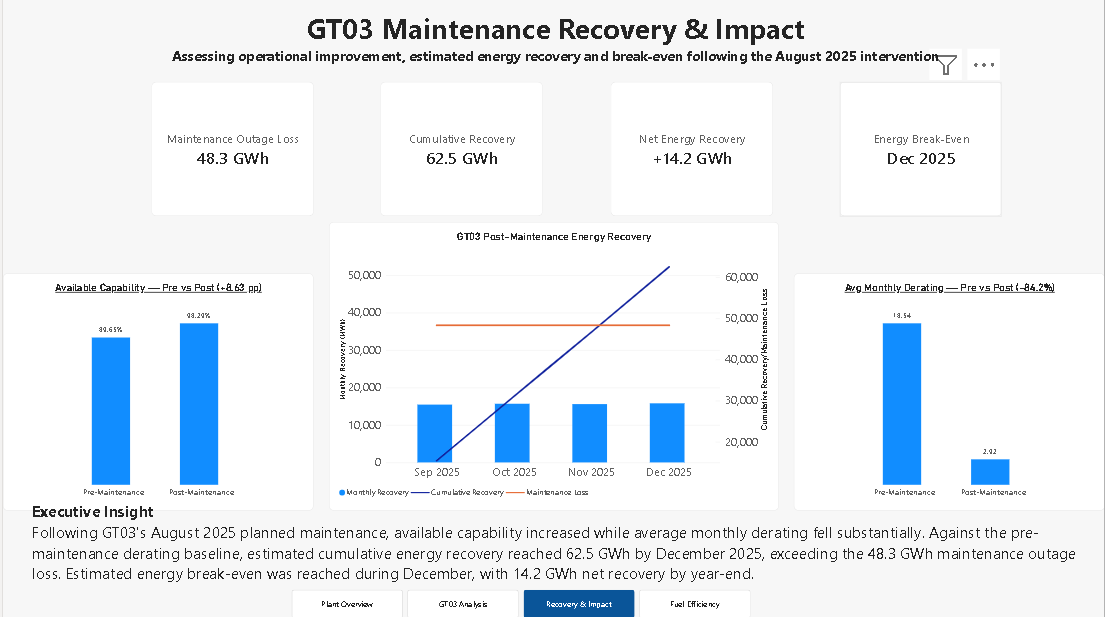

What the dashboard file says about the page in this screenshot:
{"tool":"powerbi","page":{"name":"Recovery & Impact","canvas":[1920,1080],"ordinal":2},"visuals":[{"type":"lineClusteredColumnComboChart","title":"GT03 Post-Maintenance Energy Recovery","fields":{"Category":["DimDate.Month Year"],"Y":["FactGenerationTable.GT03 Monthly Avoided Derating MWh"],"Y2":["FactGenerationTable.GT03 Cumulative Avoided Derating MWh","FactGenerationTable.GT03 Maintenance Loss Threshold MWh"]},"box":[569.1,387.8,783.8,503.2],"z":0},{"type":"cardVisual","fields":{"Data":["FactGenerationTable.Maintenance Outage Loss GWh"]},"box":[258.9,142.1,283.1,234.7],"z":1000},{"type":"cardVisual","fields":{"Data":["FactGenerationTable.Cumulative Recovery GWh"]},"box":[658,142.1,283.1,234.7],"z":2000},{"type":"cardVisual","fields":{"Data":["FactGenerationTable.Net Energy Recovery GWh"]},"box":[1059.6,142.1,283.1,234.7],"z":3000},{"type":"cardVisual","fields":{"Data":["FactGenerationTable.GT03 Energy Break-Even Month"]},"box":[1458.8,142.1,283.1,234.7],"z":4000},{"type":"textbox","box":[266.1,16.9,1395.9,113.7],"z":5000},{"type":"clusteredColumnChart","title":"Available Capability — Pre vs Post (+8.63 pp)","fields":{"Category":["DimDate.GT03 Maintenance Period"],"Y":["FactGenerationTable.Available Capability %"]},"box":[1,477.3,541,413.7],"z":6000},{"type":"clusteredColumnChart","title":"Avg Monthly Derating — Pre vs Post (−84.2%)","fields":{"Category":["DimDate.GT03 Maintenance Period"],"Y":["FactGenerationTable.GT03 Avg Monthly Derating GWh"]},"box":[1379.1,477.3,541.9,413.7],"z":7000},{"type":"textbox","box":[50.8,873.4,1829,154.8],"z":8000},{"type":"pageNavigator","box":[503.2,1028.2,800,50],"z":8001}]}

Visuals, with their boxes in screenshot pixels (x1, y1, x2, y2), scaled from the page's 1920x1080 canvas onto the 1107x617 screenshot:
"GT03 Post-Maintenance Energy Recovery" lineClusteredColumnComboChart: 328:222:780:509
cardVisual - FactGenerationTable.Maintenance Outage Loss GWh: 149:81:312:215
cardVisual - FactGenerationTable.Cumulative Recovery GWh: 379:81:543:215
cardVisual - FactGenerationTable.Net Energy Recovery GWh: 611:81:774:215
cardVisual - FactGenerationTable.GT03 Energy Break-Even Month: 841:81:1004:215
textbox: 153:10:958:75
"Available Capability — Pre vs Post (+8.63 pp)" clusteredColumnChart: 1:273:312:509
"Avg Monthly Derating — Pre vs Post (−84.2%)" clusteredColumnChart: 795:273:1106:509
textbox: 29:499:1084:587
pageNavigator: 290:587:751:616
